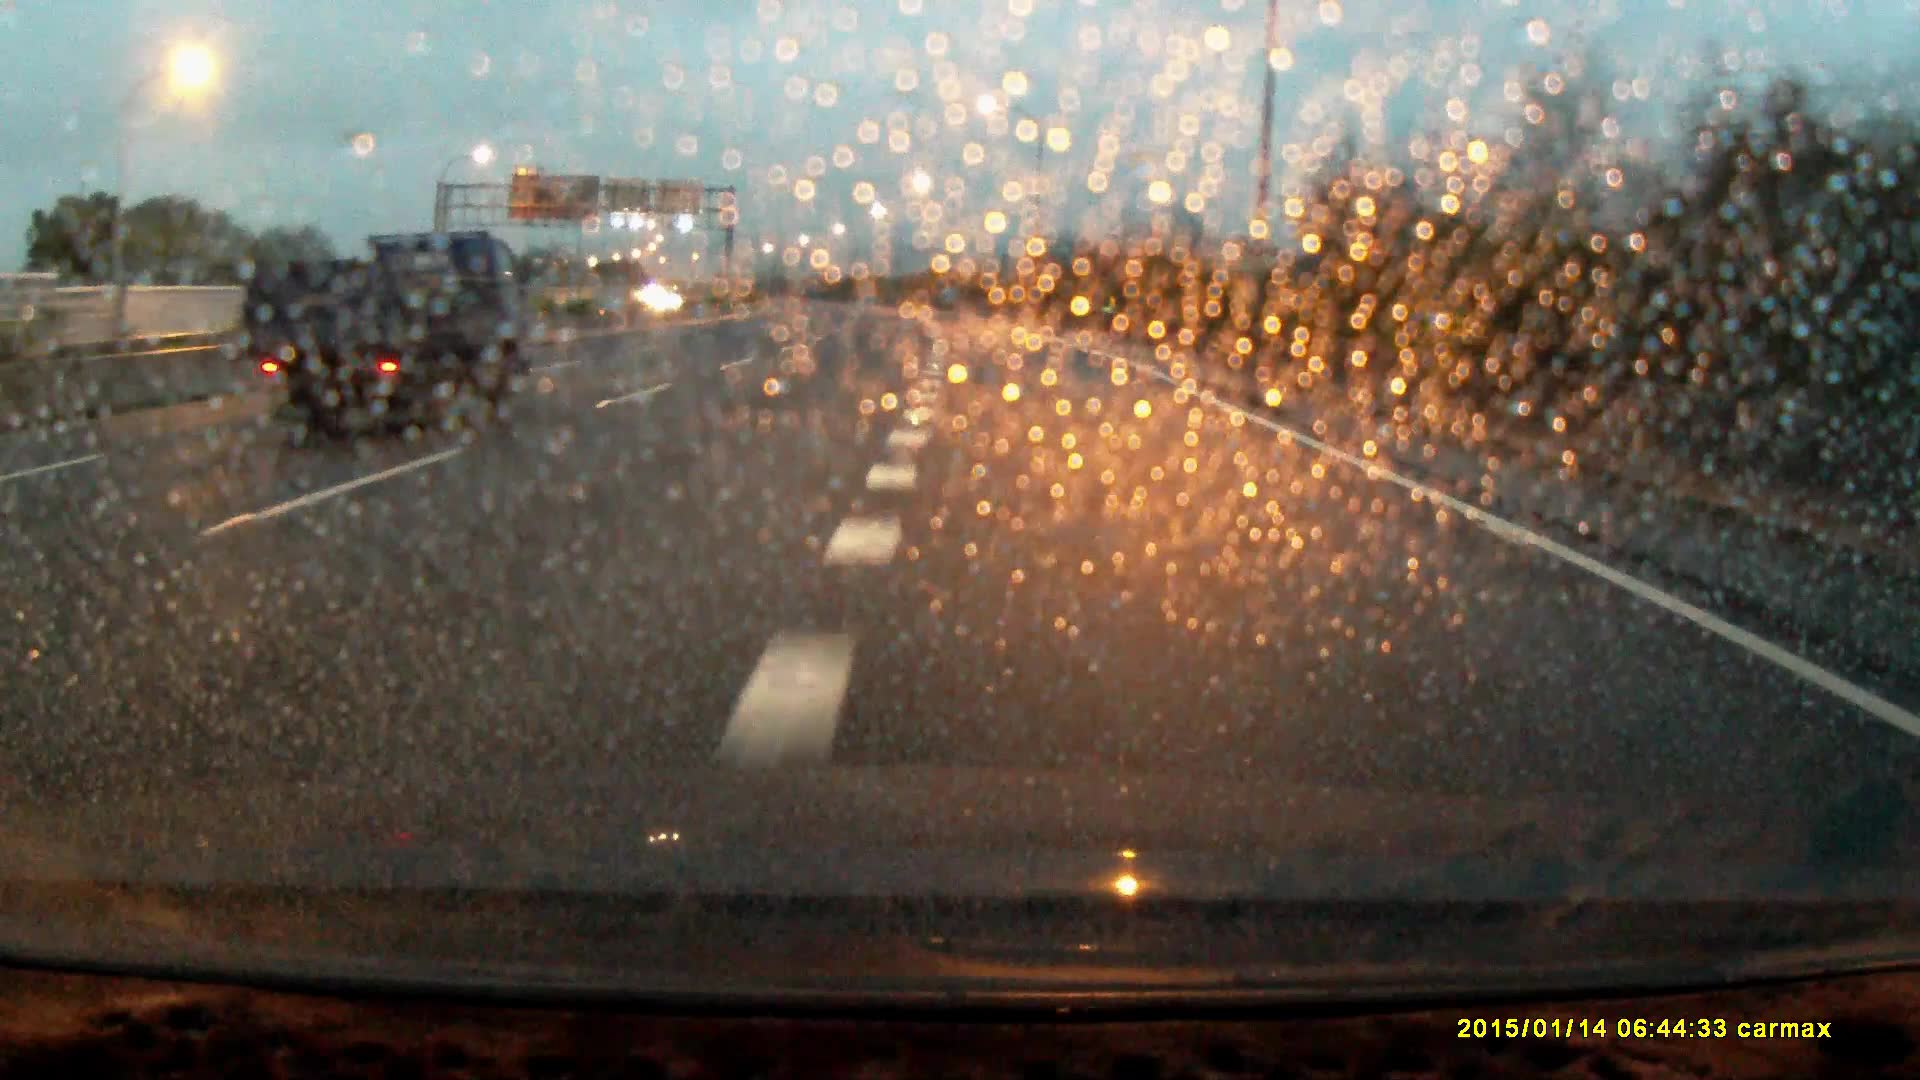vehicle: (248, 235, 516, 451)
